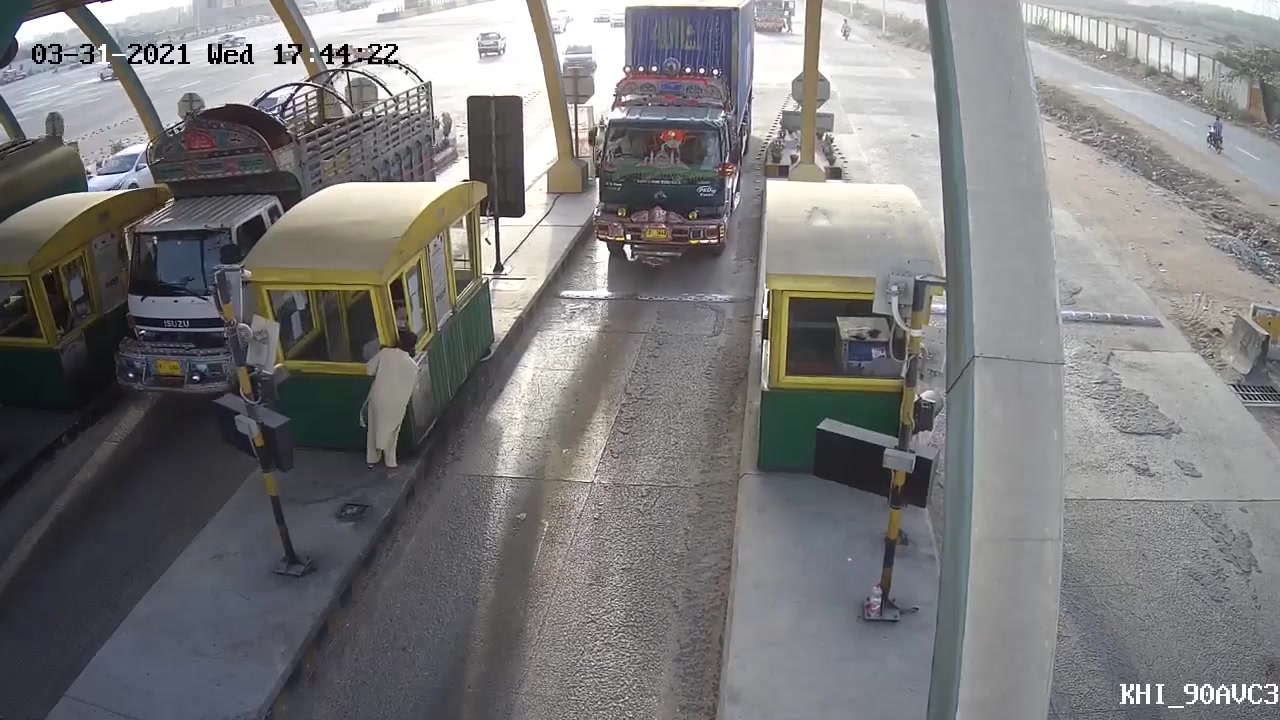F6: (554, 1, 766, 287)
